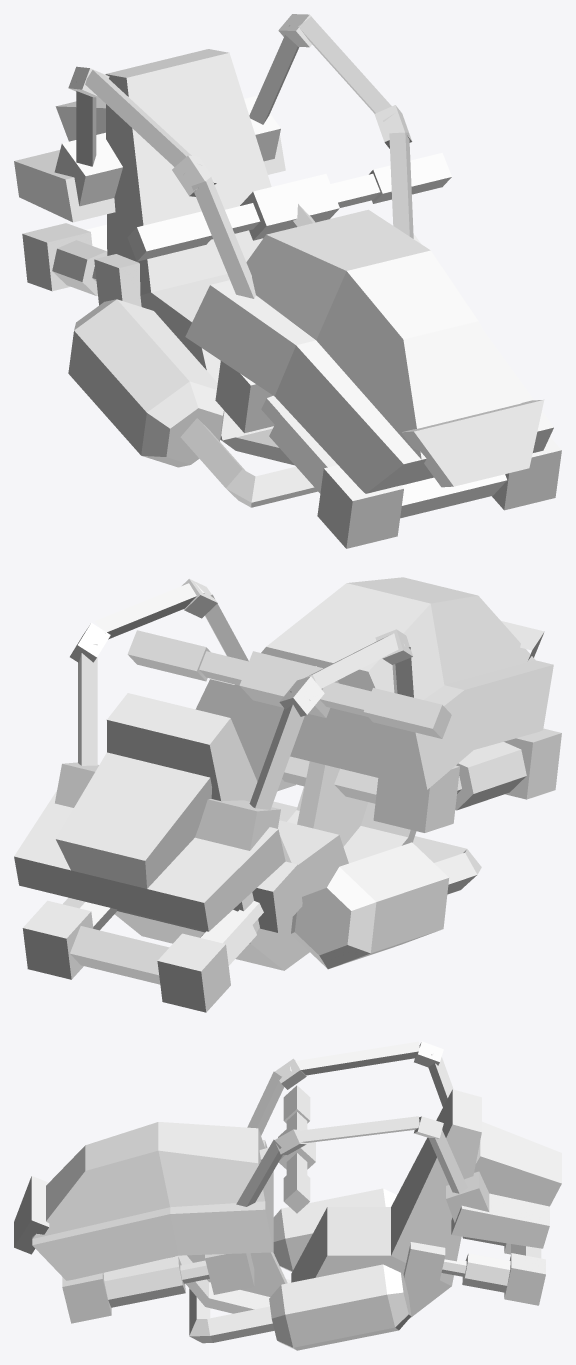
File: Bike 5 Body.glb
3 renders of one model, top to bottom at view 1: azimuth 30°, elevation 25°; view 2: azimuth 150°, elevation 25°; view 3: azimuth 270°, elevation 25°, orthographic. The views are drawn at different scales.
Visible parts, largest first — view 1: body, interior; view 2: body, interior; view 3: body, interior.
Boxes of the visible parts, x1,y1,x2,y2 form: body: [14, 14, 553, 493]; interior: [22, 16, 561, 548]; body: [14, 577, 553, 969]; interior: [22, 583, 561, 1012]; body: [14, 1041, 561, 1350]; interior: [62, 1041, 545, 1343].
Bounding box in the file's own units: 1.88 × 1.97 × 4.18.
1 material, 1 textured.
